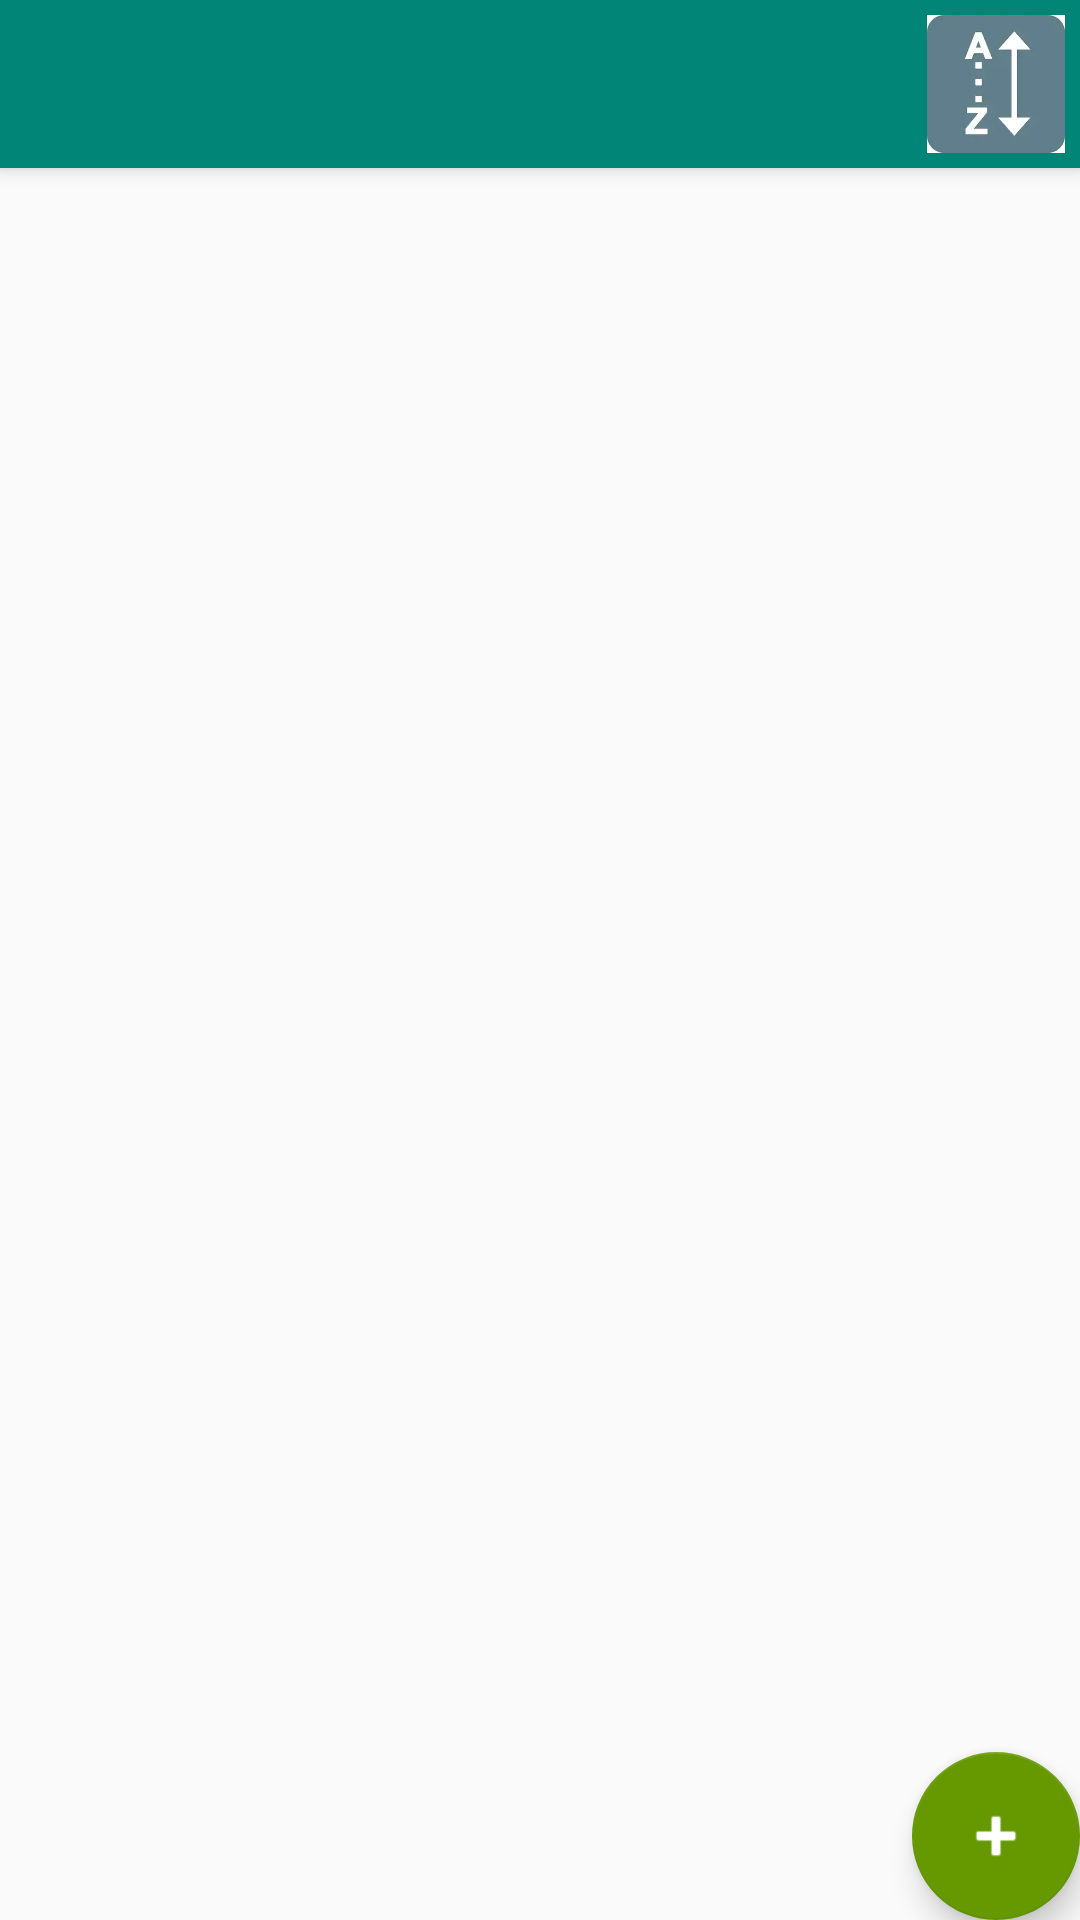

Icon click points for this 1080px×1920px phone screenshot, format point (x, y):
add: point (996, 1836)
Sort list alphabetically: point (996, 84)
